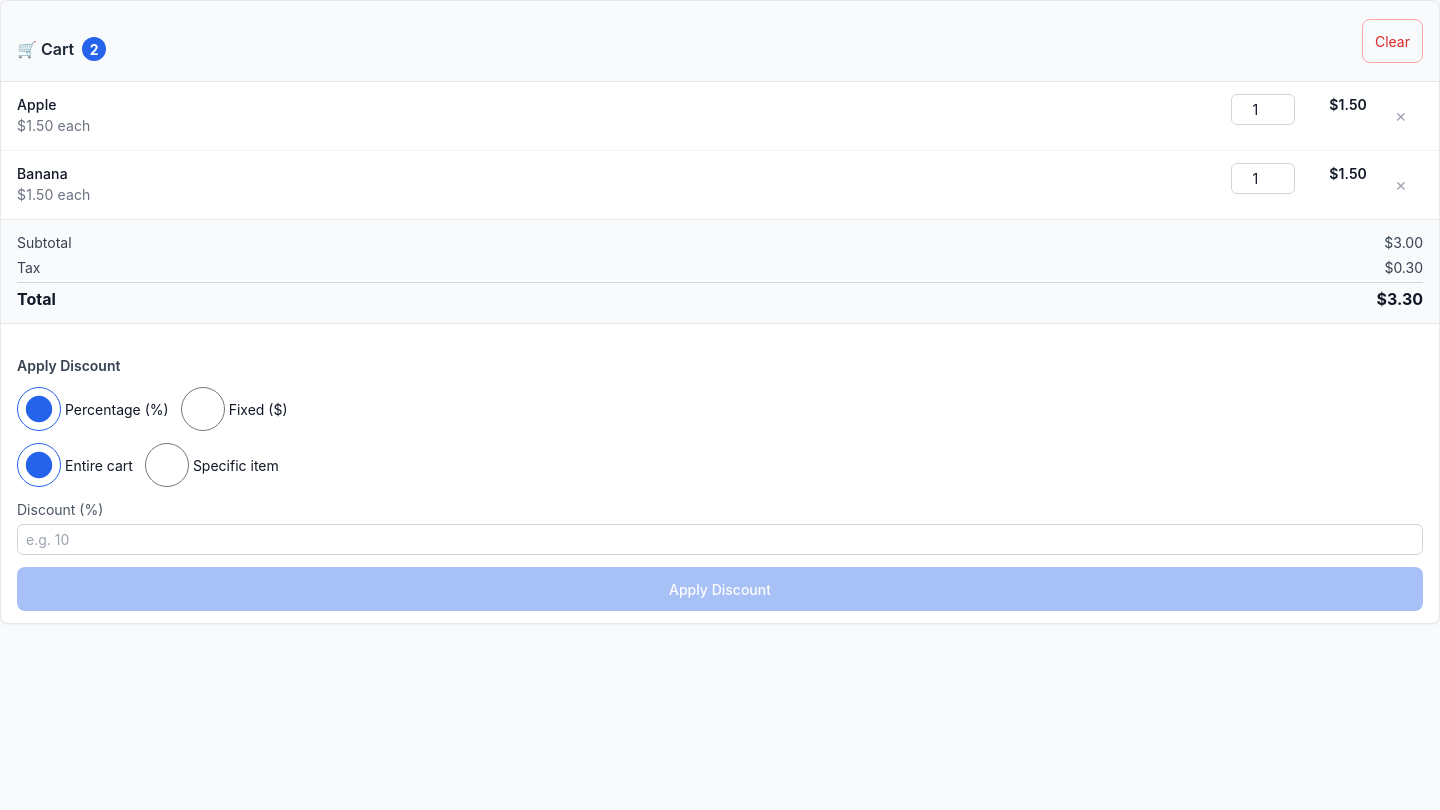
Test: ShoppingCart – store integration › clears cart when clear button is confirmed
Click the button with aria-label "clear cart". click: (1392, 41)
box: [1362, 19, 1423, 63]
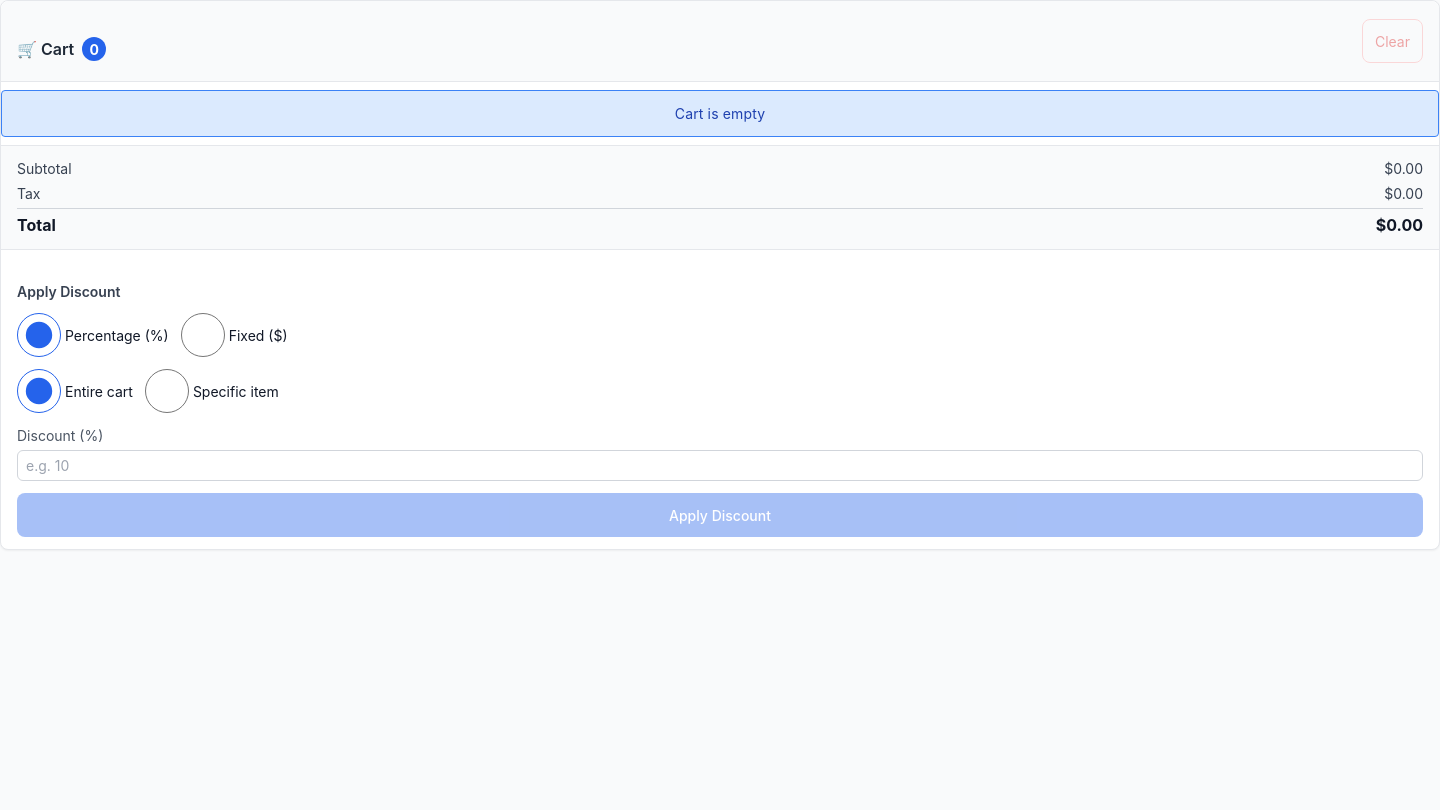
Expected: the text "Cart is empty" is shown, [1, 90, 1439, 137]
